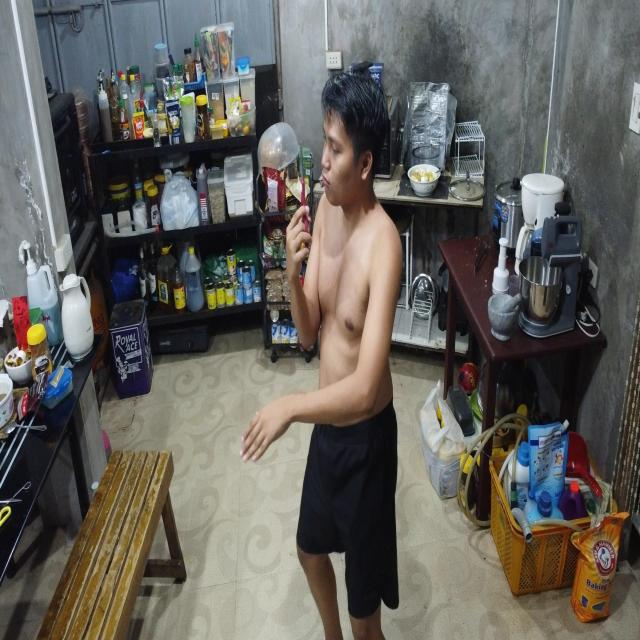scissor: (299, 139, 309, 247)
